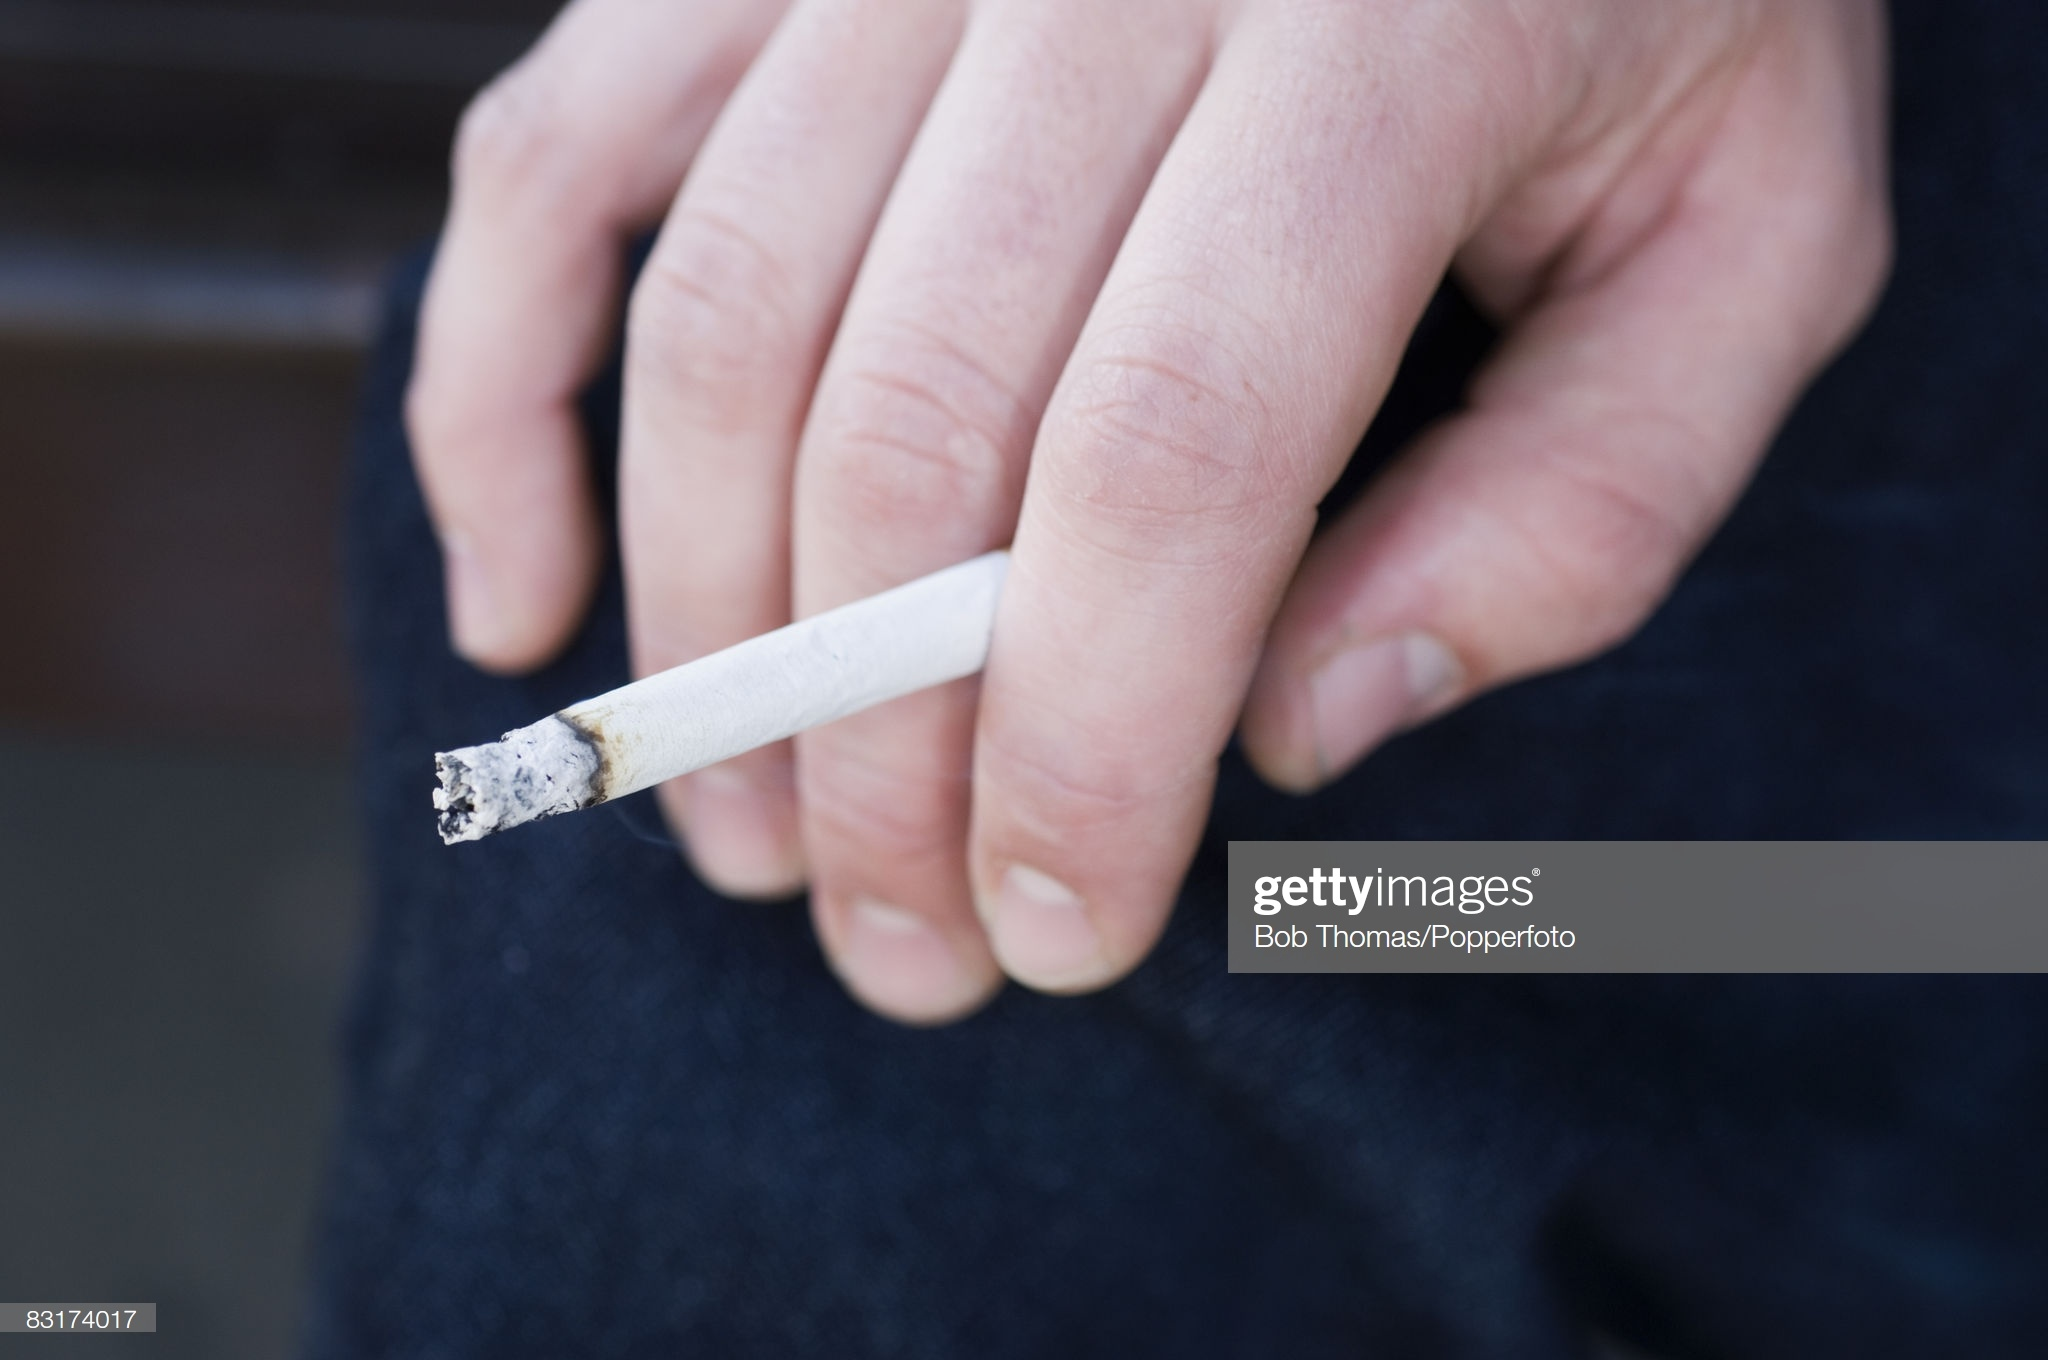sigaretta: (435, 512, 1157, 815)
